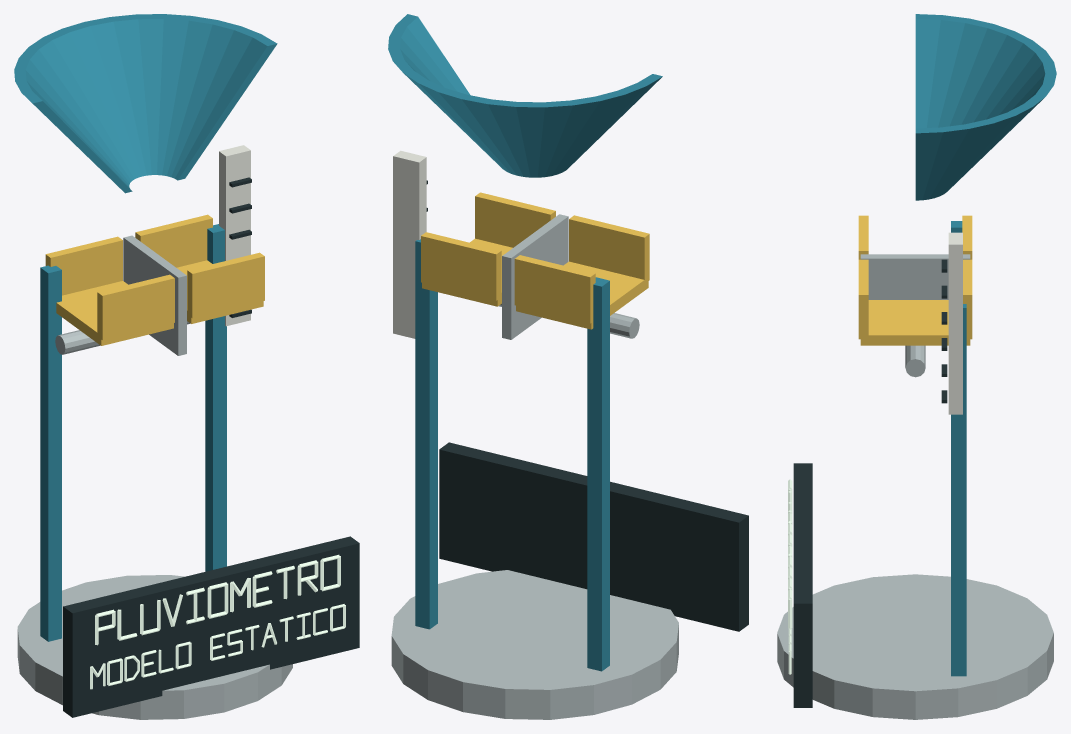
File: SHARED-003.glb
3 views of the same model, side by side, from view 1: azimuth 30°, elevation 25°; view 2: azimuth 150°, elevation 25°; view 3: azimuth 270°, elevation 25° (orthographic). The views are drawn at different scales.
Visible parts, largest first — view 1: SHARED-003; view 2: SHARED-003; view 3: SHARED-003.
Boxes of the visible parts, x1=… form: SHARED-003: x1=14, y1=14, x2=359, y2=719; SHARED-003: x1=388, y1=14, x2=748, y2=719; SHARED-003: x1=777, y1=14, x2=1056, y2=719.
Bounding box in the file's own units: 1.15 × 2.25 × 0.97.
